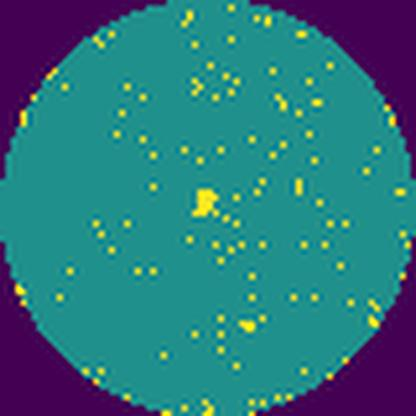Center: (190, 185, 219, 218)
